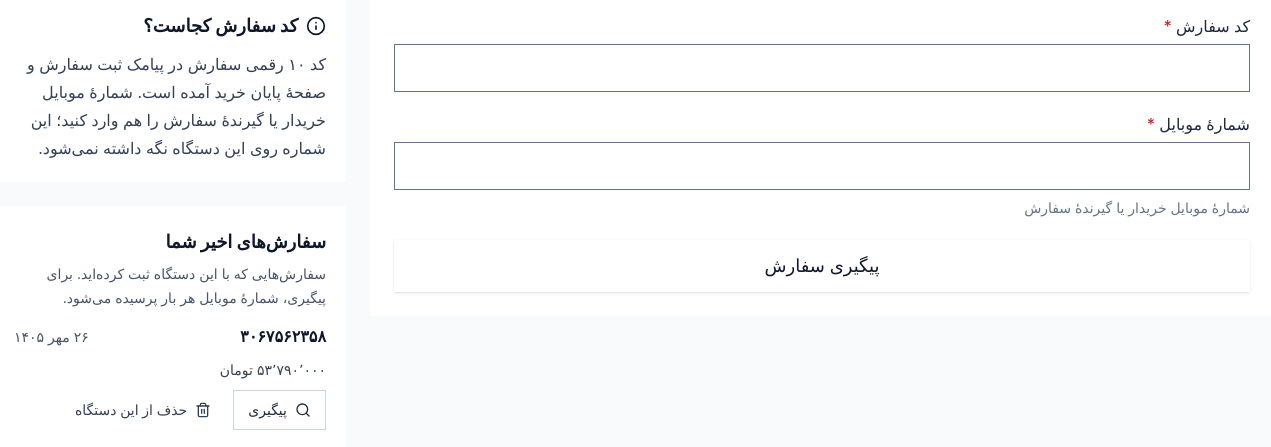
Test: the recent guest orders of this device › «پیگیری»: the code filled in, the mobile asked for (focused), nothing sent yet
This screenshot has width=1271, height=447.
Step 1. Click the button named "پیگیری سفارش ۳۰۶۷۵۶۲۳۵۸" → (280, 410), box 233,390 -> 326,430
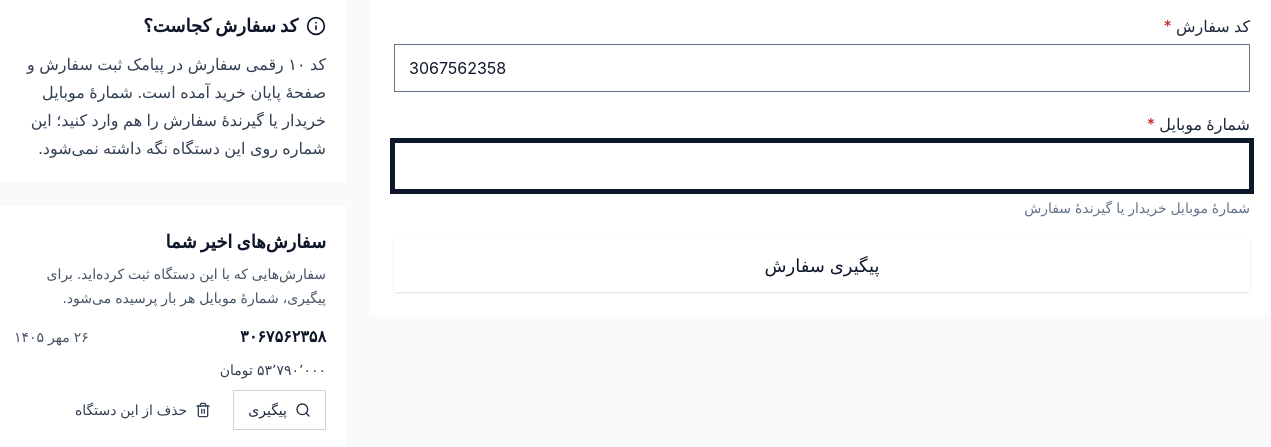
Expected: the field labelled "شمارهٔ موبایل *" is empty, 395,143 -> 1249,189
Now the field labelled "کد سفارش *" holds "3067562358", box 395,45 -> 1249,91
